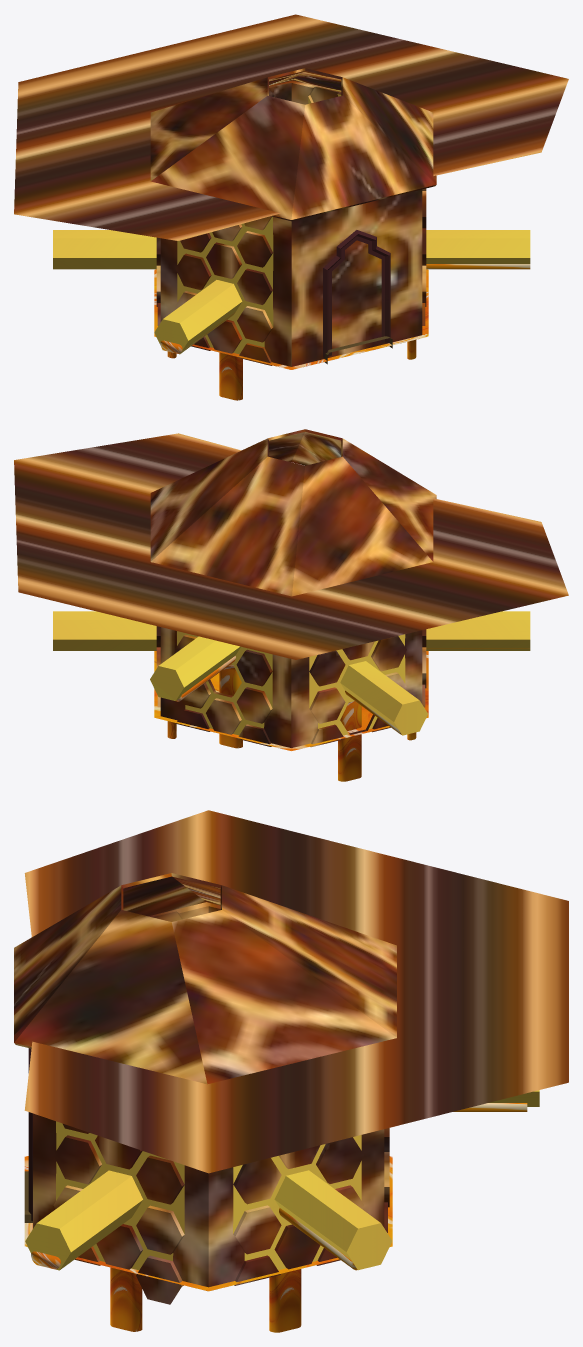
The model's file is Queen_Chamber.fbx.
3 renders of one model, top to bottom at view 1: azimuth 30°, elevation 25°; view 2: azimuth 150°, elevation 25°; view 3: azimuth 270°, elevation 25°, orthographic. The views are drawn at different scales.
Parts seen in each view (by area): view 1: room_walls, Chamber_Roof, Chamber_Door, HoneyFall, room_honeypool, HoneyFall.003; view 2: room_walls, Chamber_Roof, HoneyFall.001, room_honeypool, HoneyFall.004; view 3: room_walls, Chamber_Roof, HoneyFall.002, HoneyFall.003, room_honeypool.
Boxes of the visible parts, x1,y1,x2,y2 form: room_walls: (14,14,568,366); Chamber_Roof: (150,68,436,221); Chamber_Door: (323,230,390,357); HoneyFall: (160,313,242,400); room_honeypool: (154,269,428,369); HoneyFall.003: (407,264,530,359); room_walls: (14,433,568,747); Chamber_Roof: (150,429,436,596); HoneyFall.001: (338,690,401,781); room_honeypool: (154,651,428,751); HoneyFall.004: (176,656,242,748); room_walls: (24,810,568,1304); Chamber_Roof: (14,873,396,1084); HoneyFall.002: (269,1208,357,1332); HoneyFall.003: (31,1251,142,1331); room_honeypool: (24,1156,392,1291).
Bounding box in the file's own units: 4755 × 2266 × 3070.
